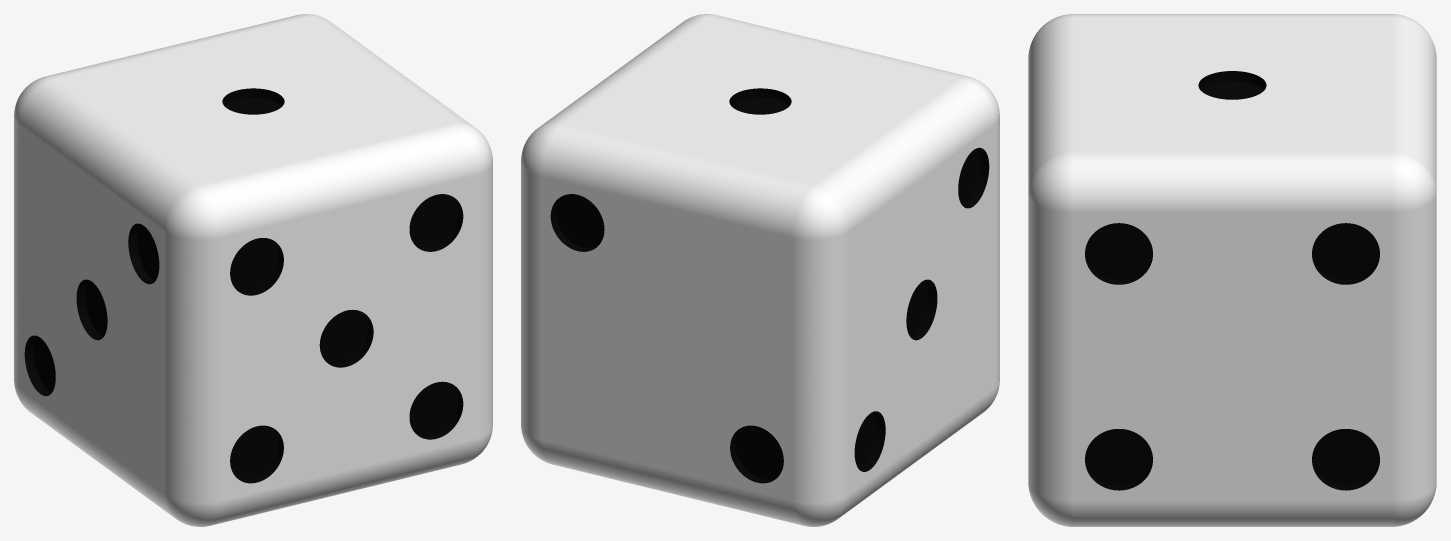
File: RoundedDieCentered.obj
3 renders of one model, left to right at view 1: azimuth 30°, elevation 25°; view 2: azimuth 150°, elevation 25°; view 3: azimuth 270°, elevation 25°, orthographic. The views are drawn at different scales.
Parts seen in each view (by area): view 1: RoundedDieCentered; view 2: RoundedDieCentered; view 3: RoundedDieCentered.
Boxes of the visible parts, <box> form: RoundedDieCentered: <box>14,14,492,526</box>; RoundedDieCentered: <box>521,14,999,526</box>; RoundedDieCentered: <box>1028,14,1436,526</box>.
Bounding box in the file's own units: 18 × 18 × 18.
Materials: 1 (1 with a texture image).
